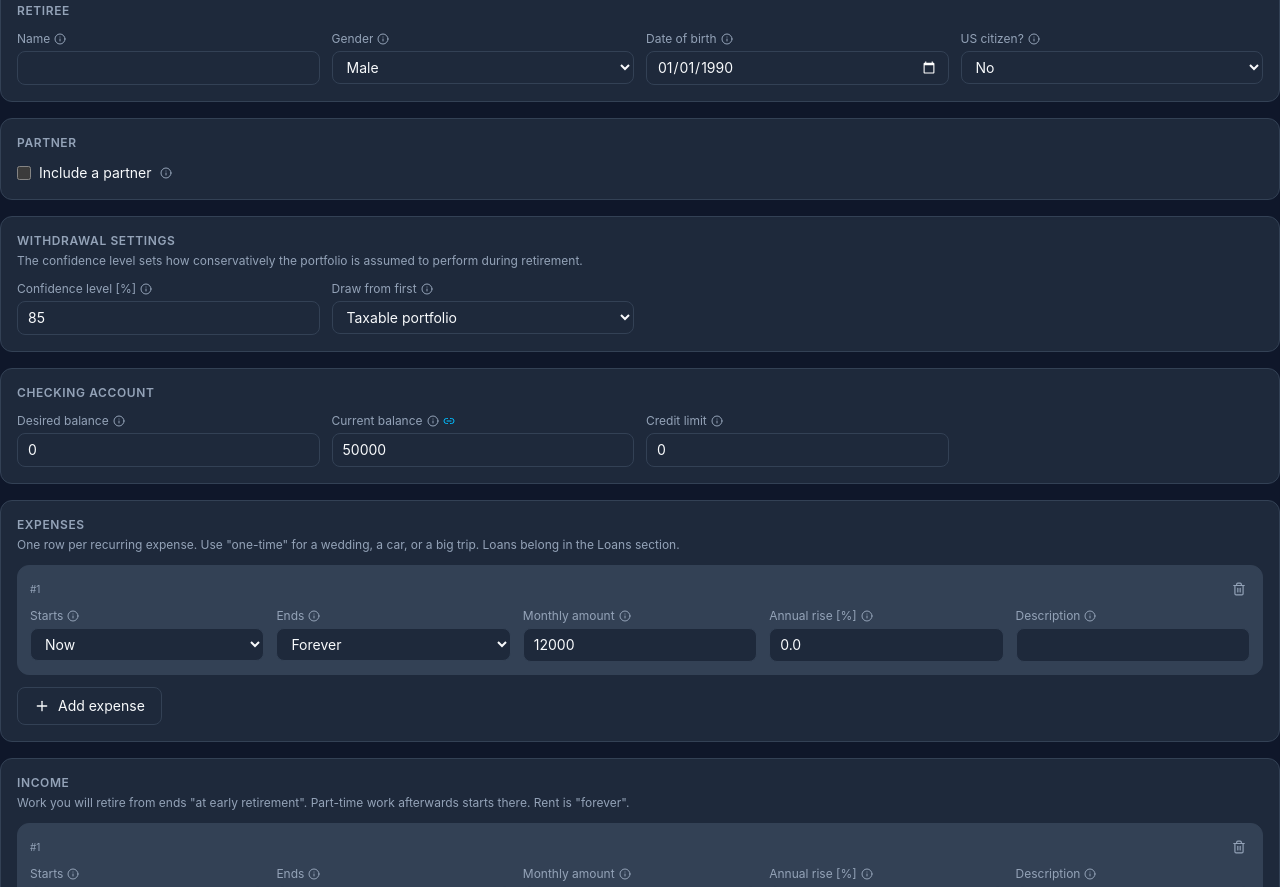
EarlyRetirement › unlinks a field the user types over, and relinks it on request
This screenshot has width=1280, height=887.
(page scrolled)
Replace the text in the number field labelled "Current balance" with "1234" at (483, 450), box left=332, top=433, right=634, bottom=467
(page scrolled)
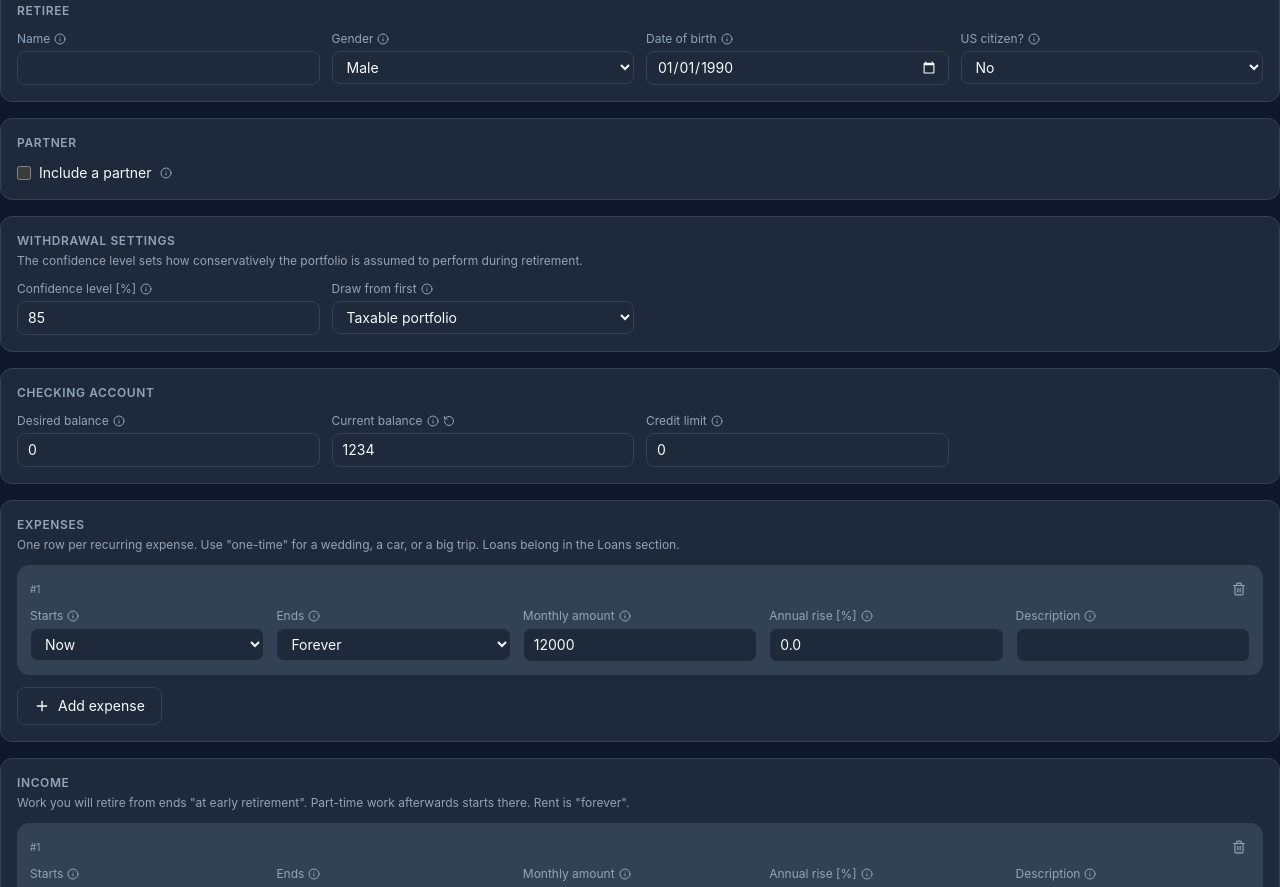
Expected: the element with test id "fire-linked-balance" is gone
Click the button with test id "fire-relink-balance" at (449, 421), box left=443, top=415, right=455, bottom=427
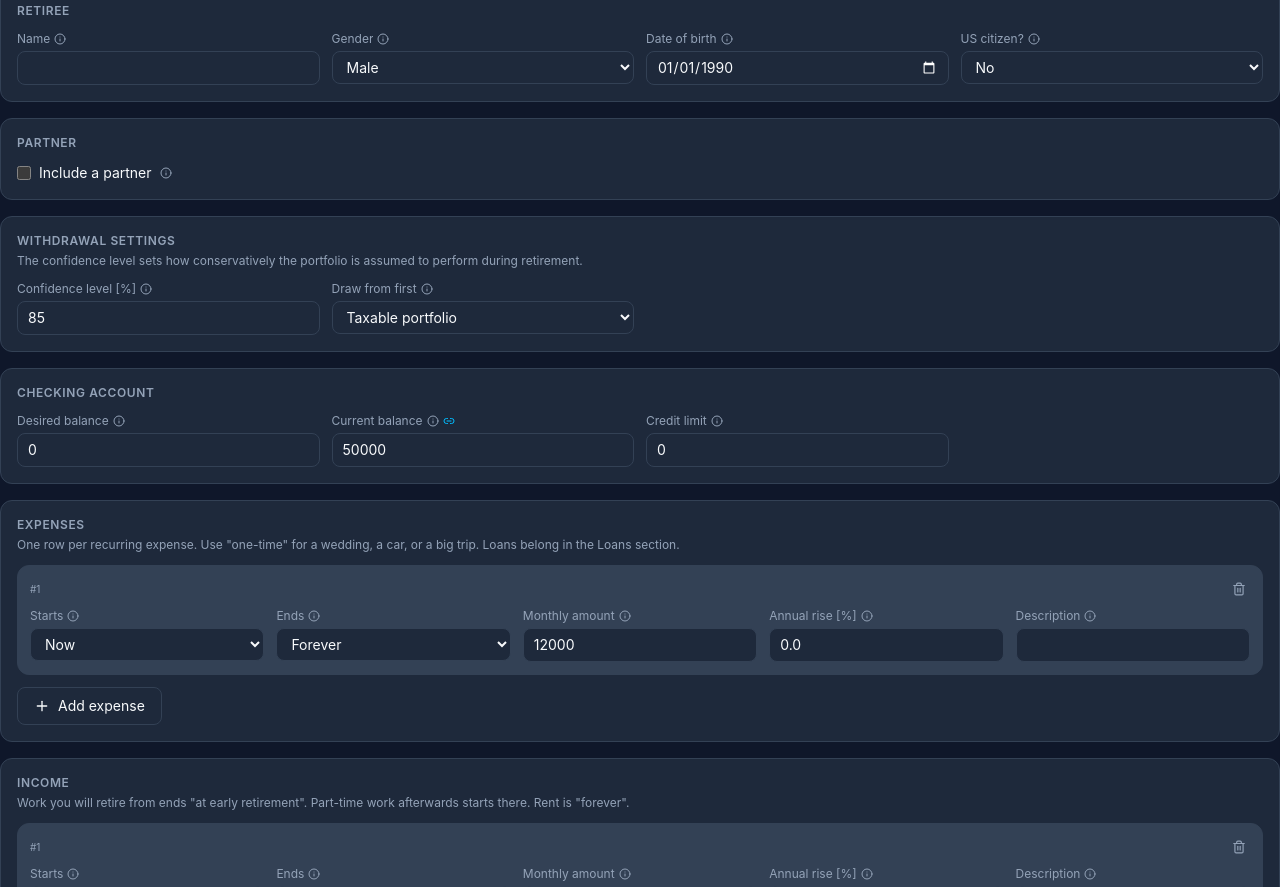
Expected: the number field labelled "Current balance" holds "50000", left=332, top=433, right=634, bottom=467
Expected: the element with test id "fire-linked-balance" is shown, left=443, top=415, right=455, bottom=427
